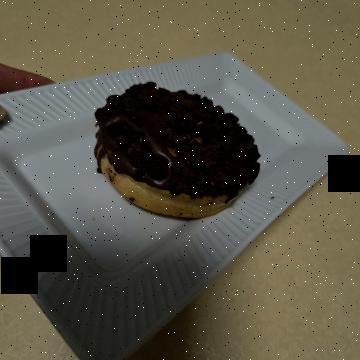doughnut: (85, 95, 233, 285)
